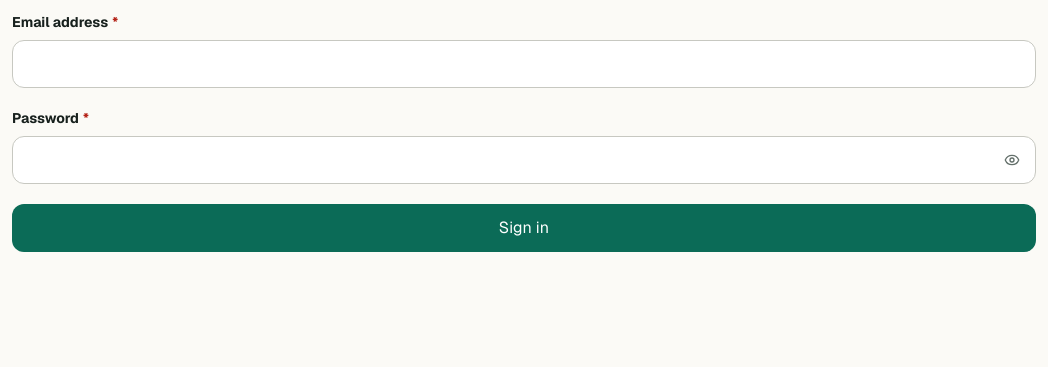
Test: login form › shows a generic authentication error without revealing which credential failed
The width and height of the screenshot is (1048, 367).
Type "sme.demo@proofflow.example" into the field labelled "Email address*". click: (524, 64)
box: [12,40,1036,88]
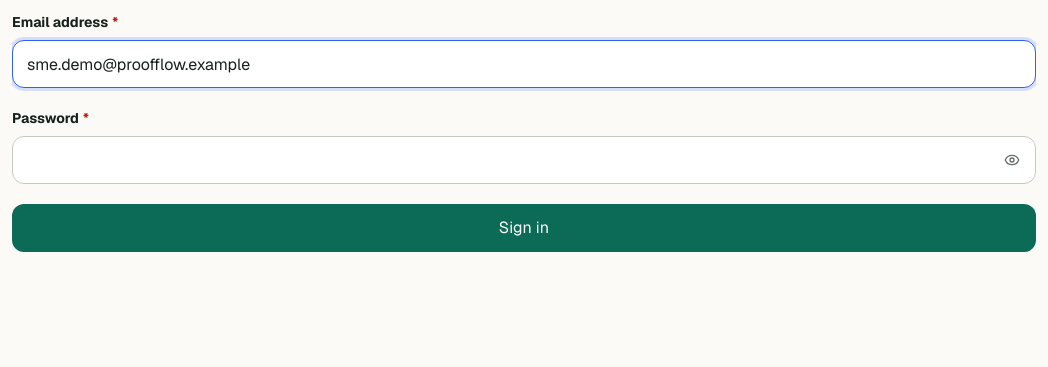
Type "safe-sample-password" into the password field labelled "Password*". click: (524, 160)
box: [12,136,1036,184]
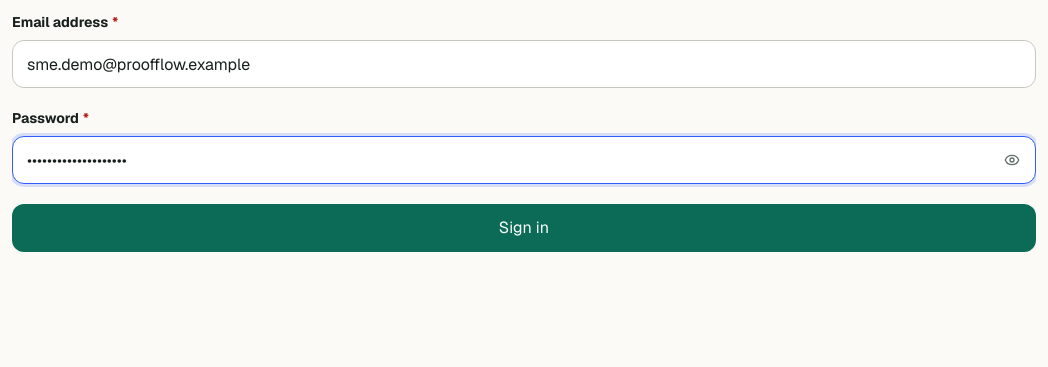
Click the button "Sign in". click: (524, 228)
box: [12,204,1036,252]
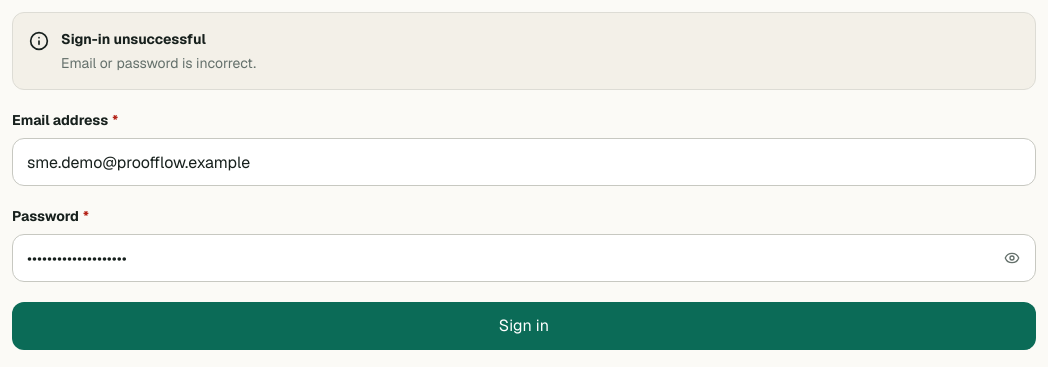
Now the message shows "Email or password is incorrect", box [61,54,256,72]
